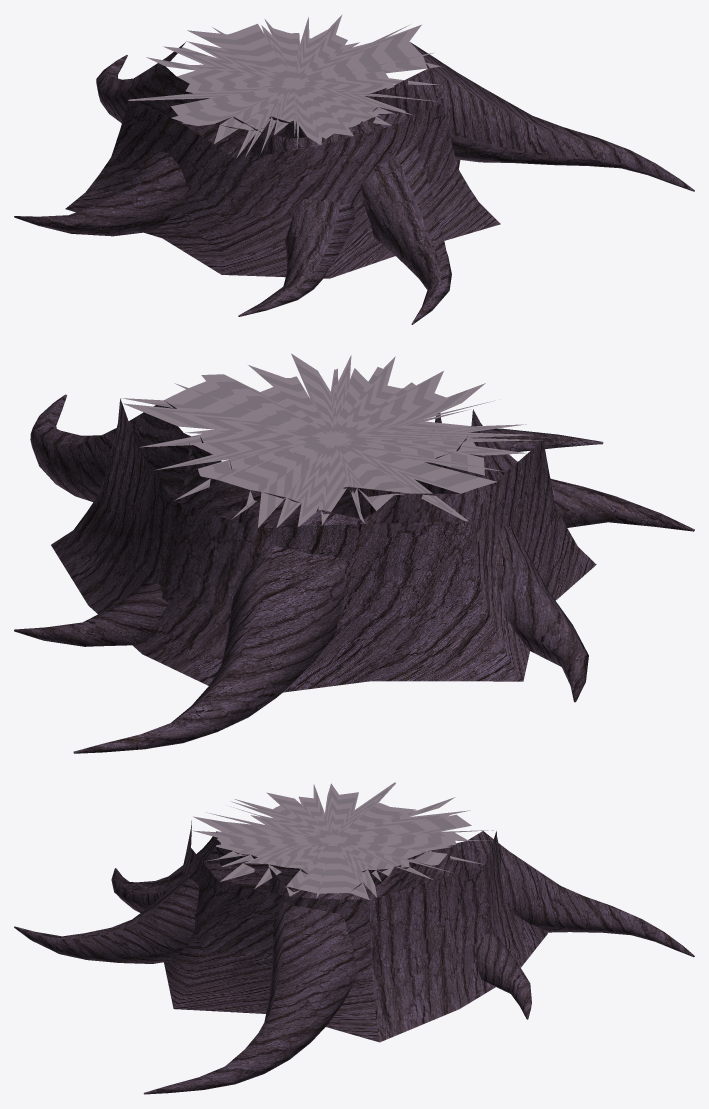
File: corealm_stump_wilderness_magic.glb
3 renders of one model, top to bottom at view 1: azimuth 30°, elevation 25°; view 2: azimuth 150°, elevation 25°; view 3: azimuth 270°, elevation 25°, orthographic. The views are drawn at different scales.
Visible parts, largest first — view 1: corealm_stump_wilderness_magic; view 2: corealm_stump_wilderness_magic; view 3: corealm_stump_wilderness_magic.
Part boxes in pixels (<box>): corealm_stump_wilderness_magic: <box>14,14,694,324</box>; corealm_stump_wilderness_magic: <box>14,353,694,753</box>; corealm_stump_wilderness_magic: <box>14,782,694,1094</box>.
Bounding box in the file's own units: 2.87 × 0.6194 × 3.21.
Materials: 2 (1 with a texture image).
